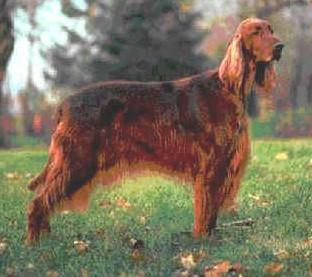Irish_setter: (23, 17, 285, 248)
